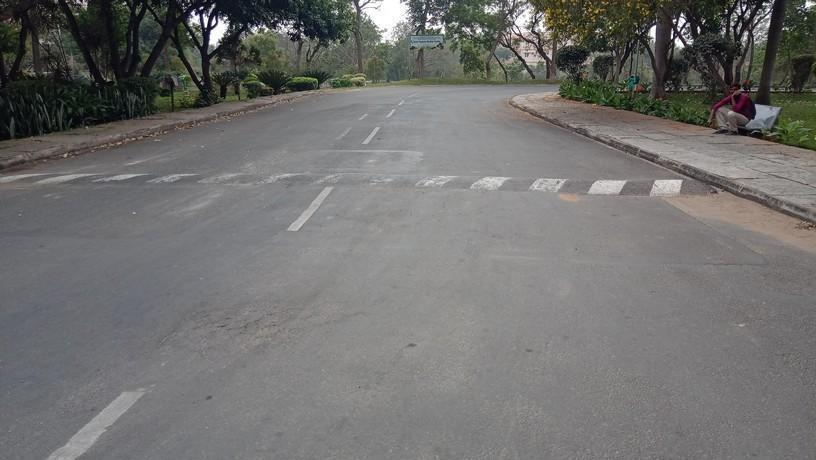speedbreaker: (0, 161, 712, 214)
